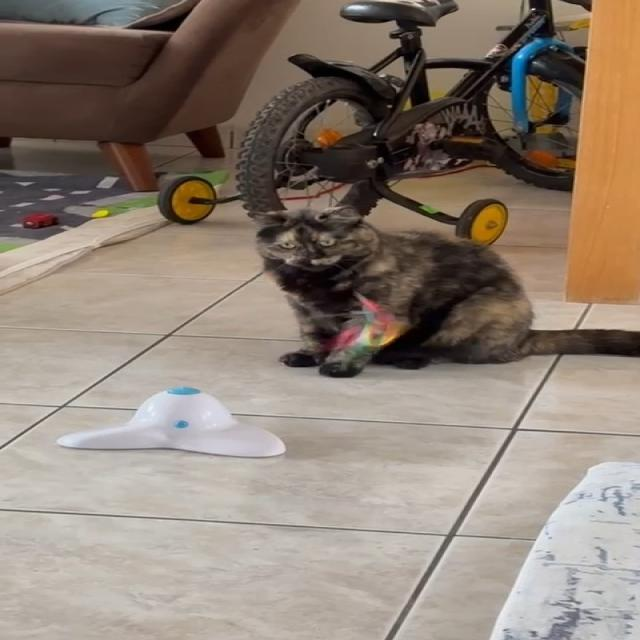authorized: (252, 205, 639, 372)
